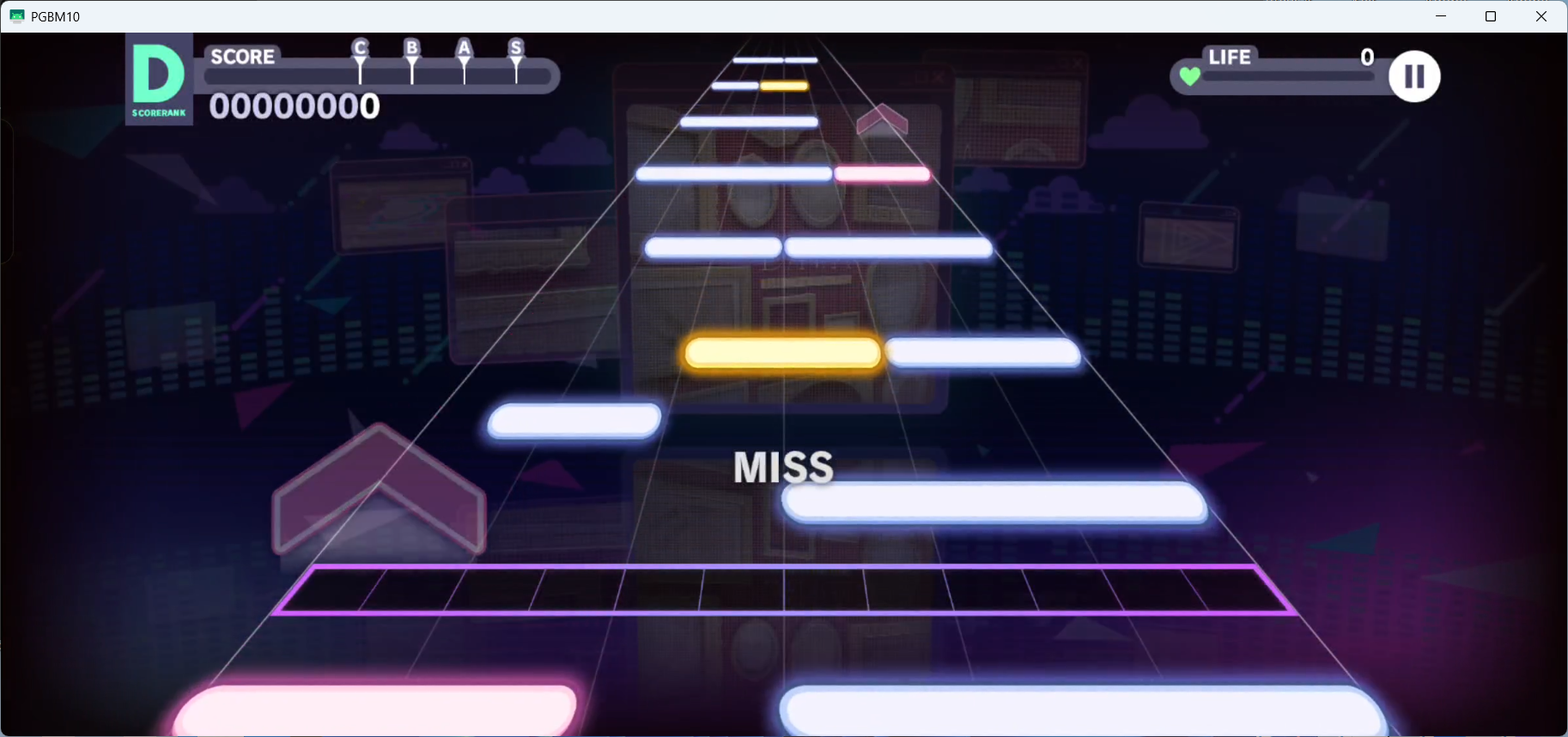flick: (272, 422, 487, 577), (858, 102, 907, 142)
tap: (780, 686, 1390, 735), (171, 686, 575, 737), (782, 482, 1209, 523), (487, 404, 663, 440), (884, 337, 1080, 369), (684, 337, 881, 368), (784, 238, 994, 258), (636, 166, 831, 181), (646, 238, 782, 257), (680, 116, 817, 127), (834, 166, 929, 181), (760, 82, 808, 90), (732, 56, 783, 63), (711, 82, 759, 89), (784, 57, 817, 63)
